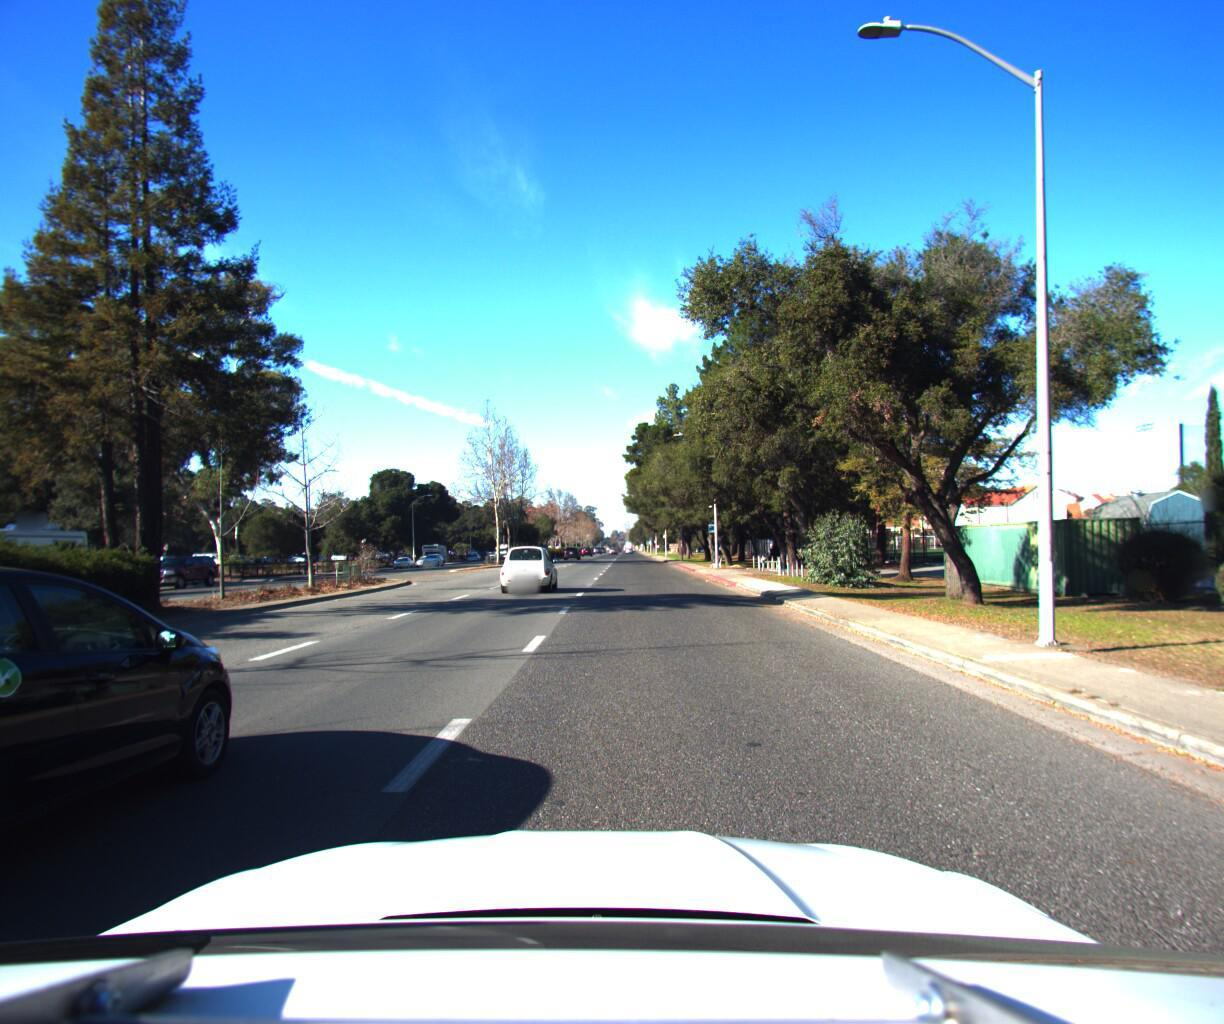car: (0, 537, 271, 1024), (139, 551, 229, 590), (495, 544, 561, 595)
other_vehicle: (0, 510, 100, 618)
